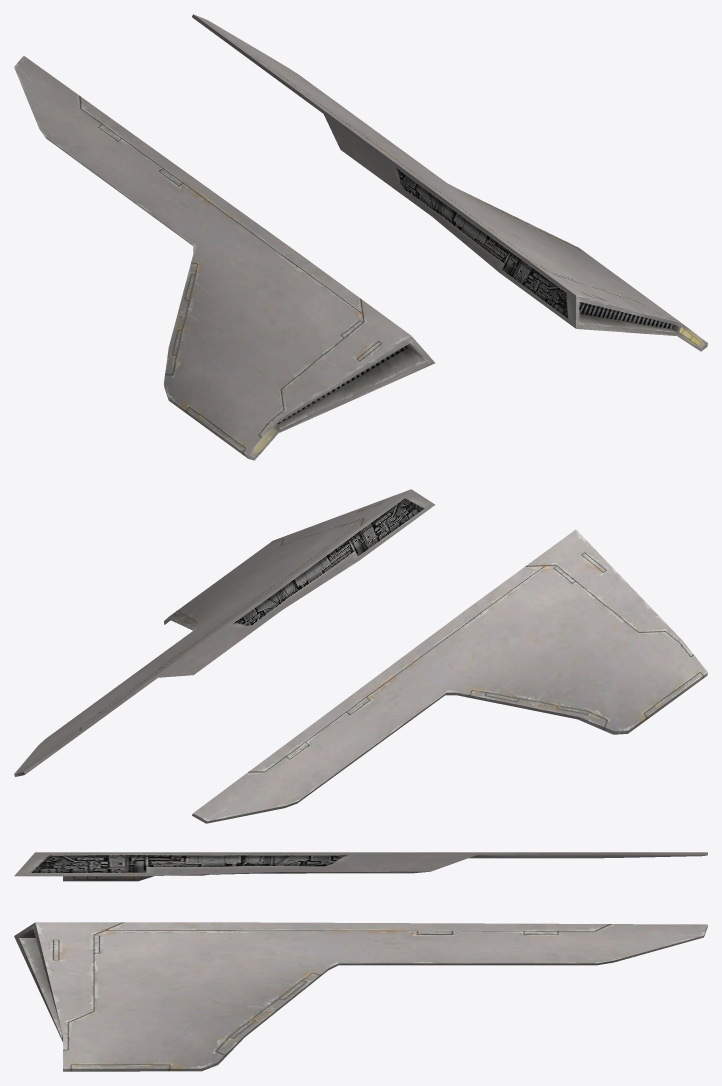
The model's file is hutt_fighter_medium_struct_s01_l0.fbx.
The picture shows the model from 3 angles, top to bottom: view 1: azimuth 30°, elevation 25°; view 2: azimuth 150°, elevation 25°; view 3: azimuth 270°, elevation 25°; orthographic projection. The views are drawn at different scales.
Visible parts, largest first — view 1: mesh_node; view 2: mesh_node; view 3: mesh_node.
Part boxes in pixels (x1,y1,x2,y2): mesh_node: (14,14,707,460); mesh_node: (14,489,707,823); mesh_node: (14,852,707,1071).
Bounding box in the file's own units: 13.89 × 2.95 × 20.77.
